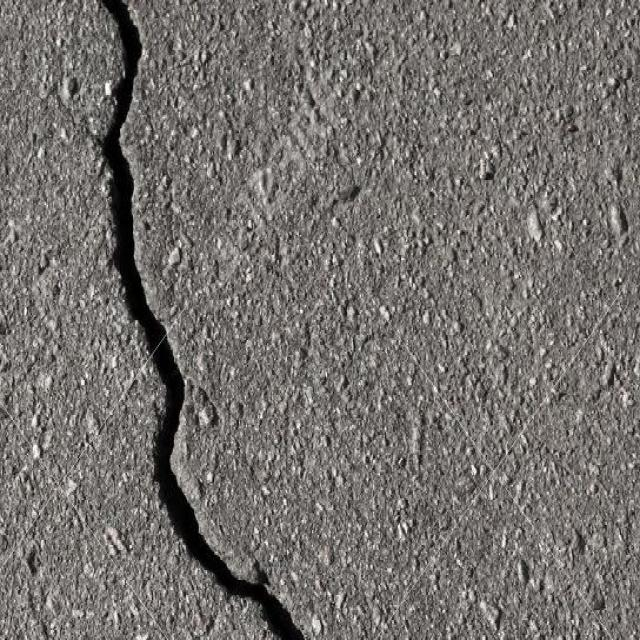Longitudinal: (90, 0, 301, 640)
